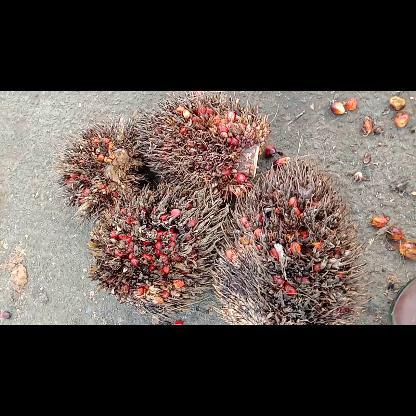Terlalu masak: (212, 154, 376, 324), (85, 176, 236, 324), (130, 90, 274, 209), (48, 112, 160, 218)
